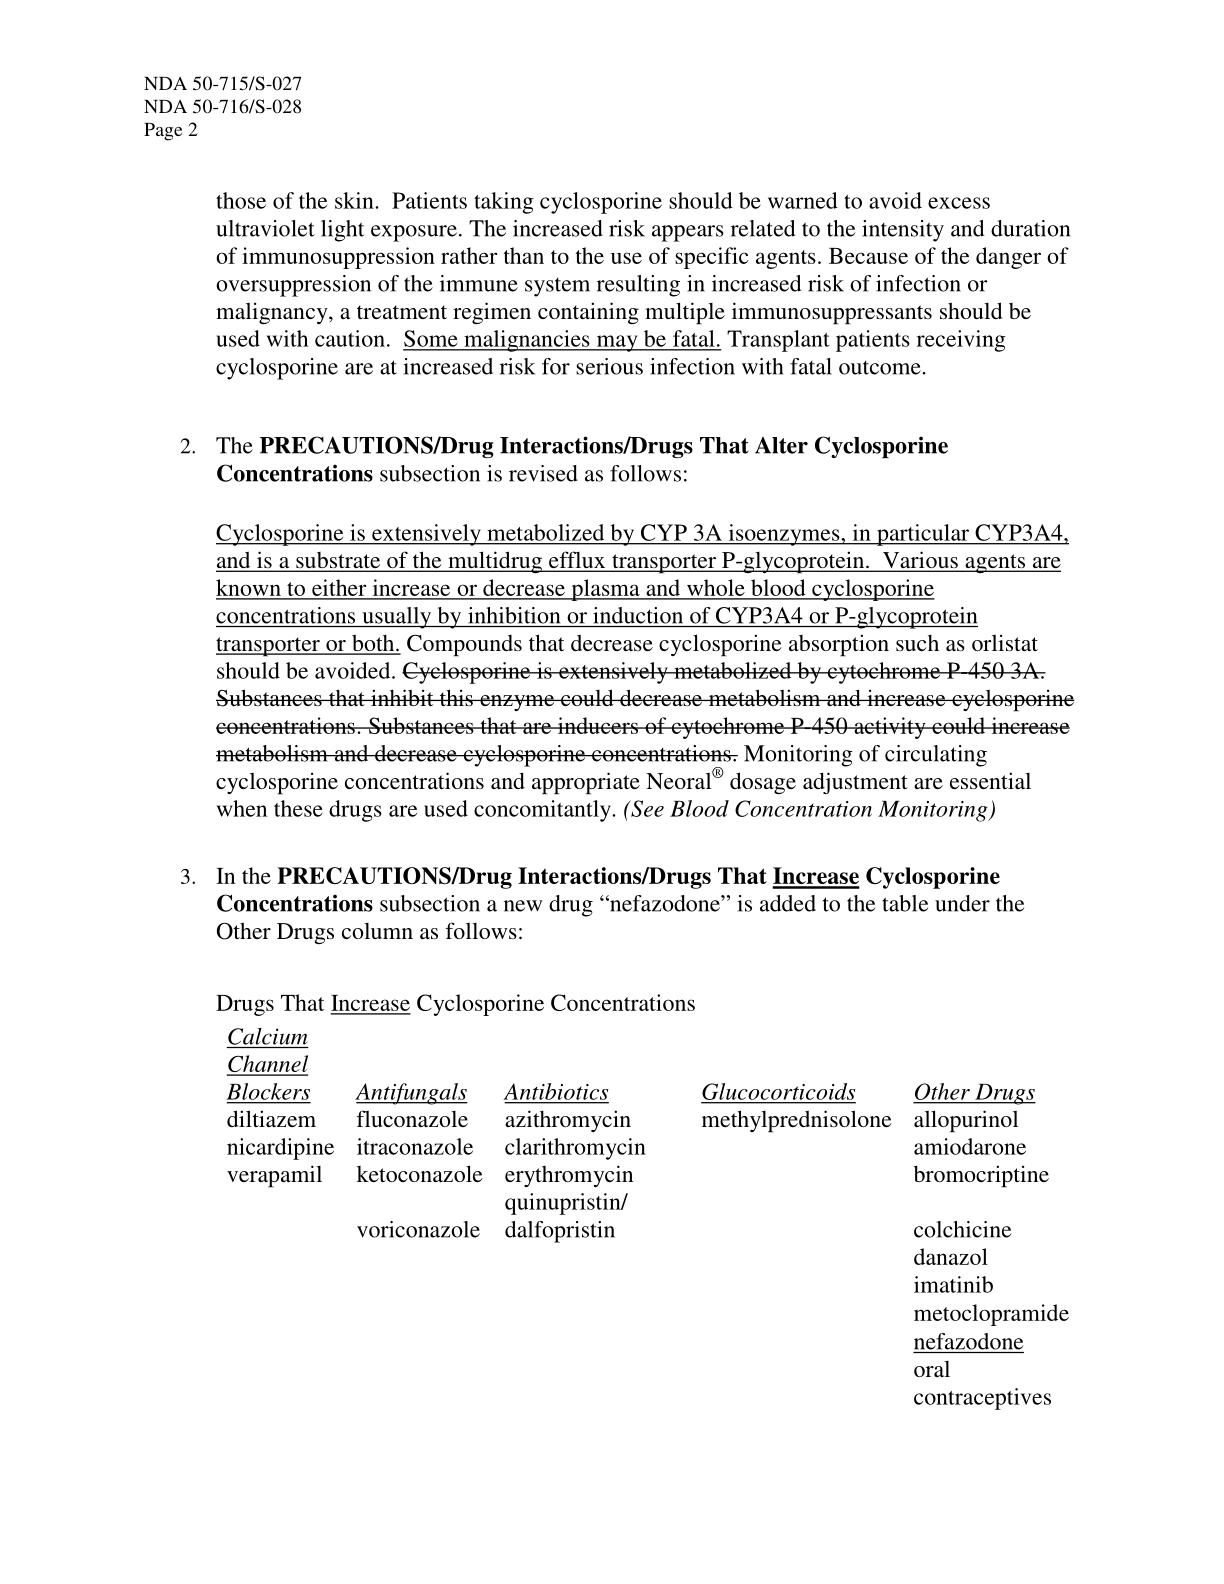nolines: (221, 1023, 1072, 1413)
